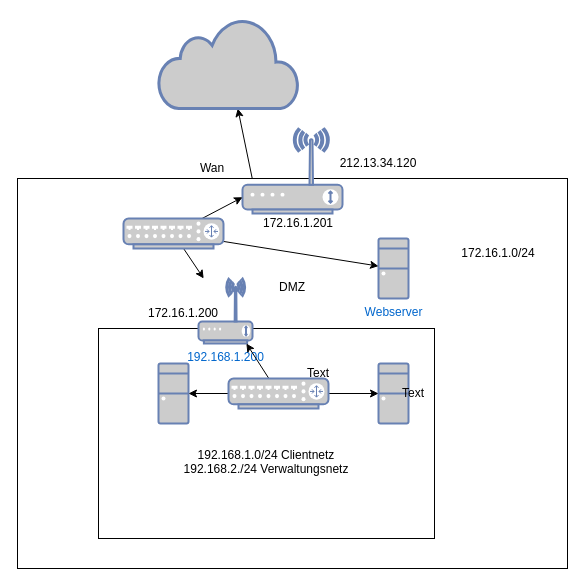
This 585x586 diagram has some shape labels left out. Each missing label, with the centre of its shape:
Fileserver: [393,393]
ID/DHCP/DNS: [173,393]
